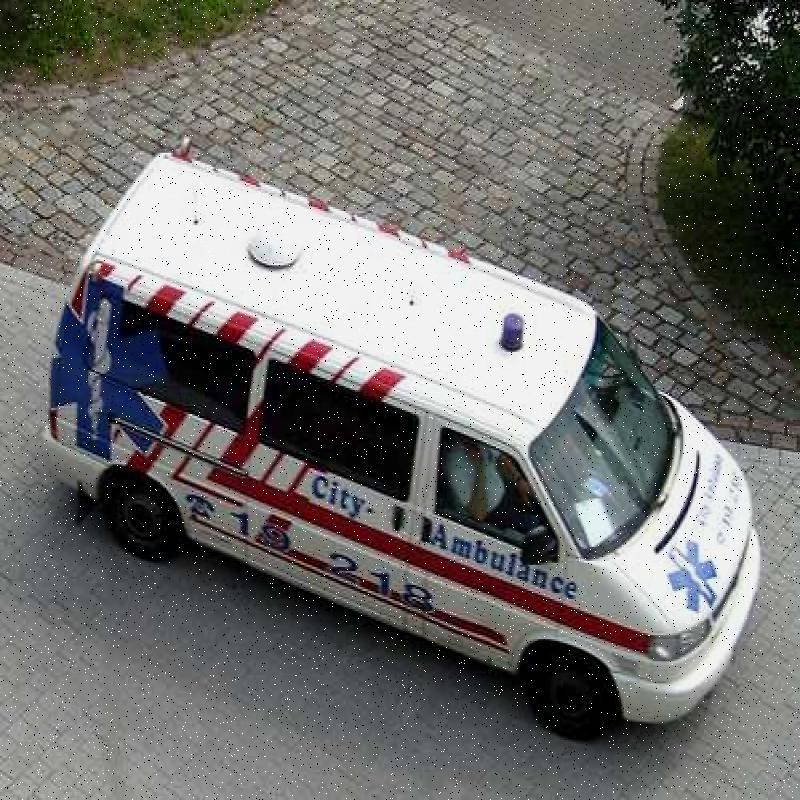AmbulanceSiren: (493, 288, 530, 370)
ambulance: (26, 171, 750, 760)
